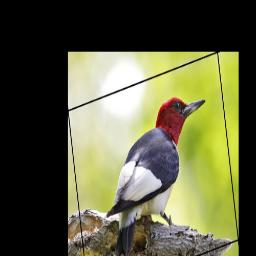Woodpecker: (97, 87, 219, 256)
